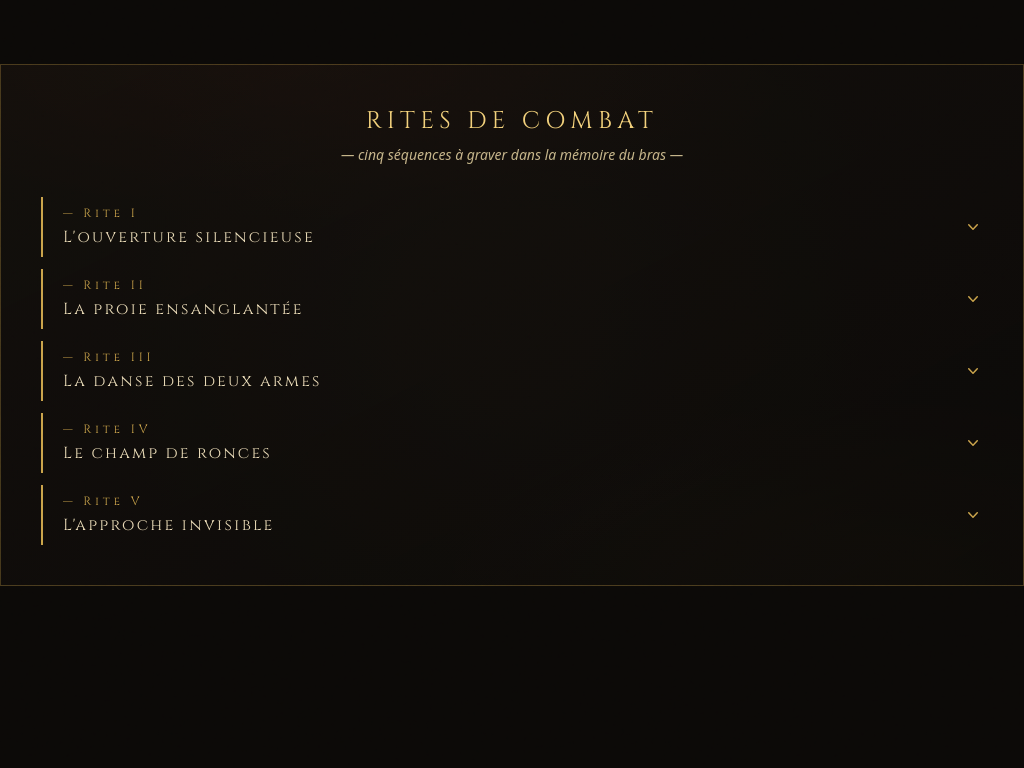
Test: CodexRituals — accordéon (mobile) › permet d'ouvrir plusieurs rites à la fois
Click the button "— Rite I L'ouverture silencieuse".
click(101, 213)  # box [63, 197, 983, 257]
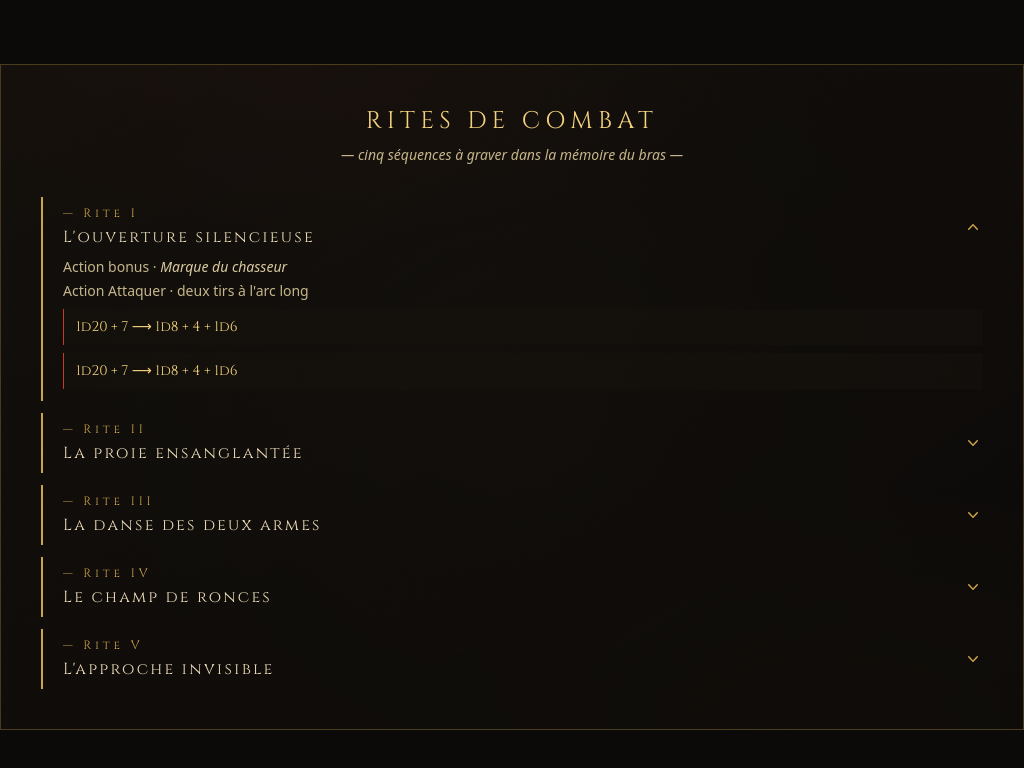
Click the button "— Rite III La danse des deux armes".
click(109, 501)  # box [63, 485, 983, 545]
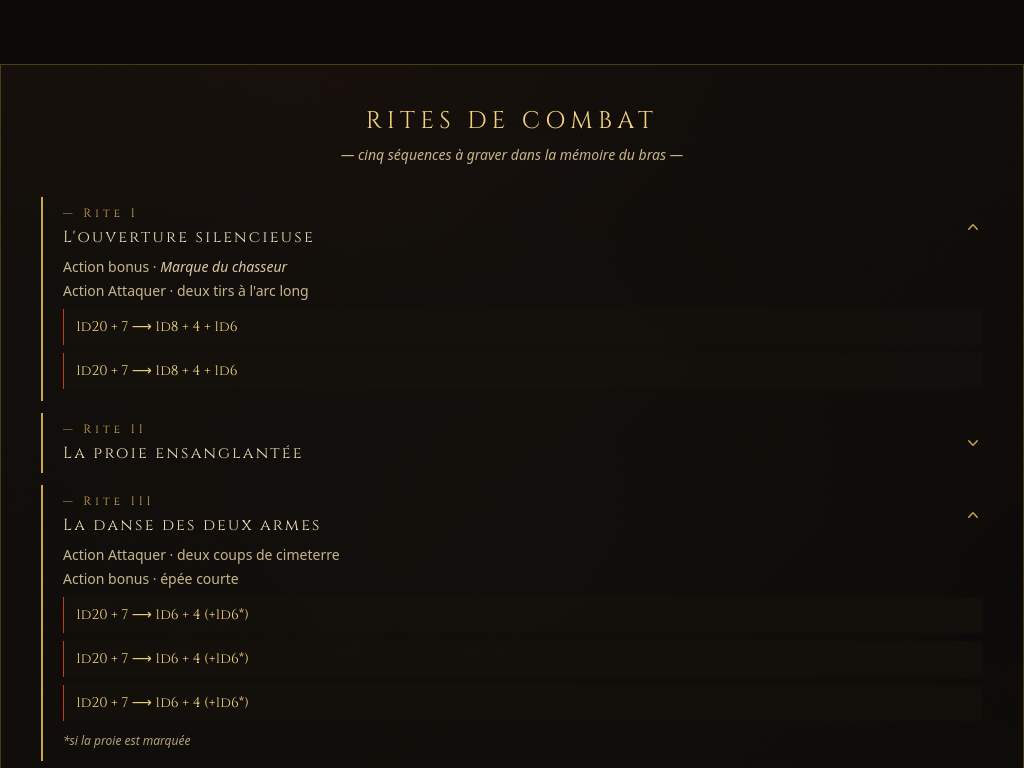
Check: the element with id "rite-panel-0" is shown, box [63, 257, 983, 401]
Check: the element with id "rite-panel-2" is shown, box [63, 545, 983, 761]
